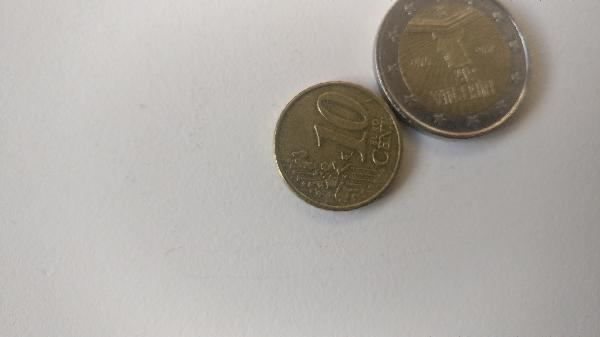Ten Cent: (267, 76, 405, 217)
Two Euro: (373, 1, 533, 142)
